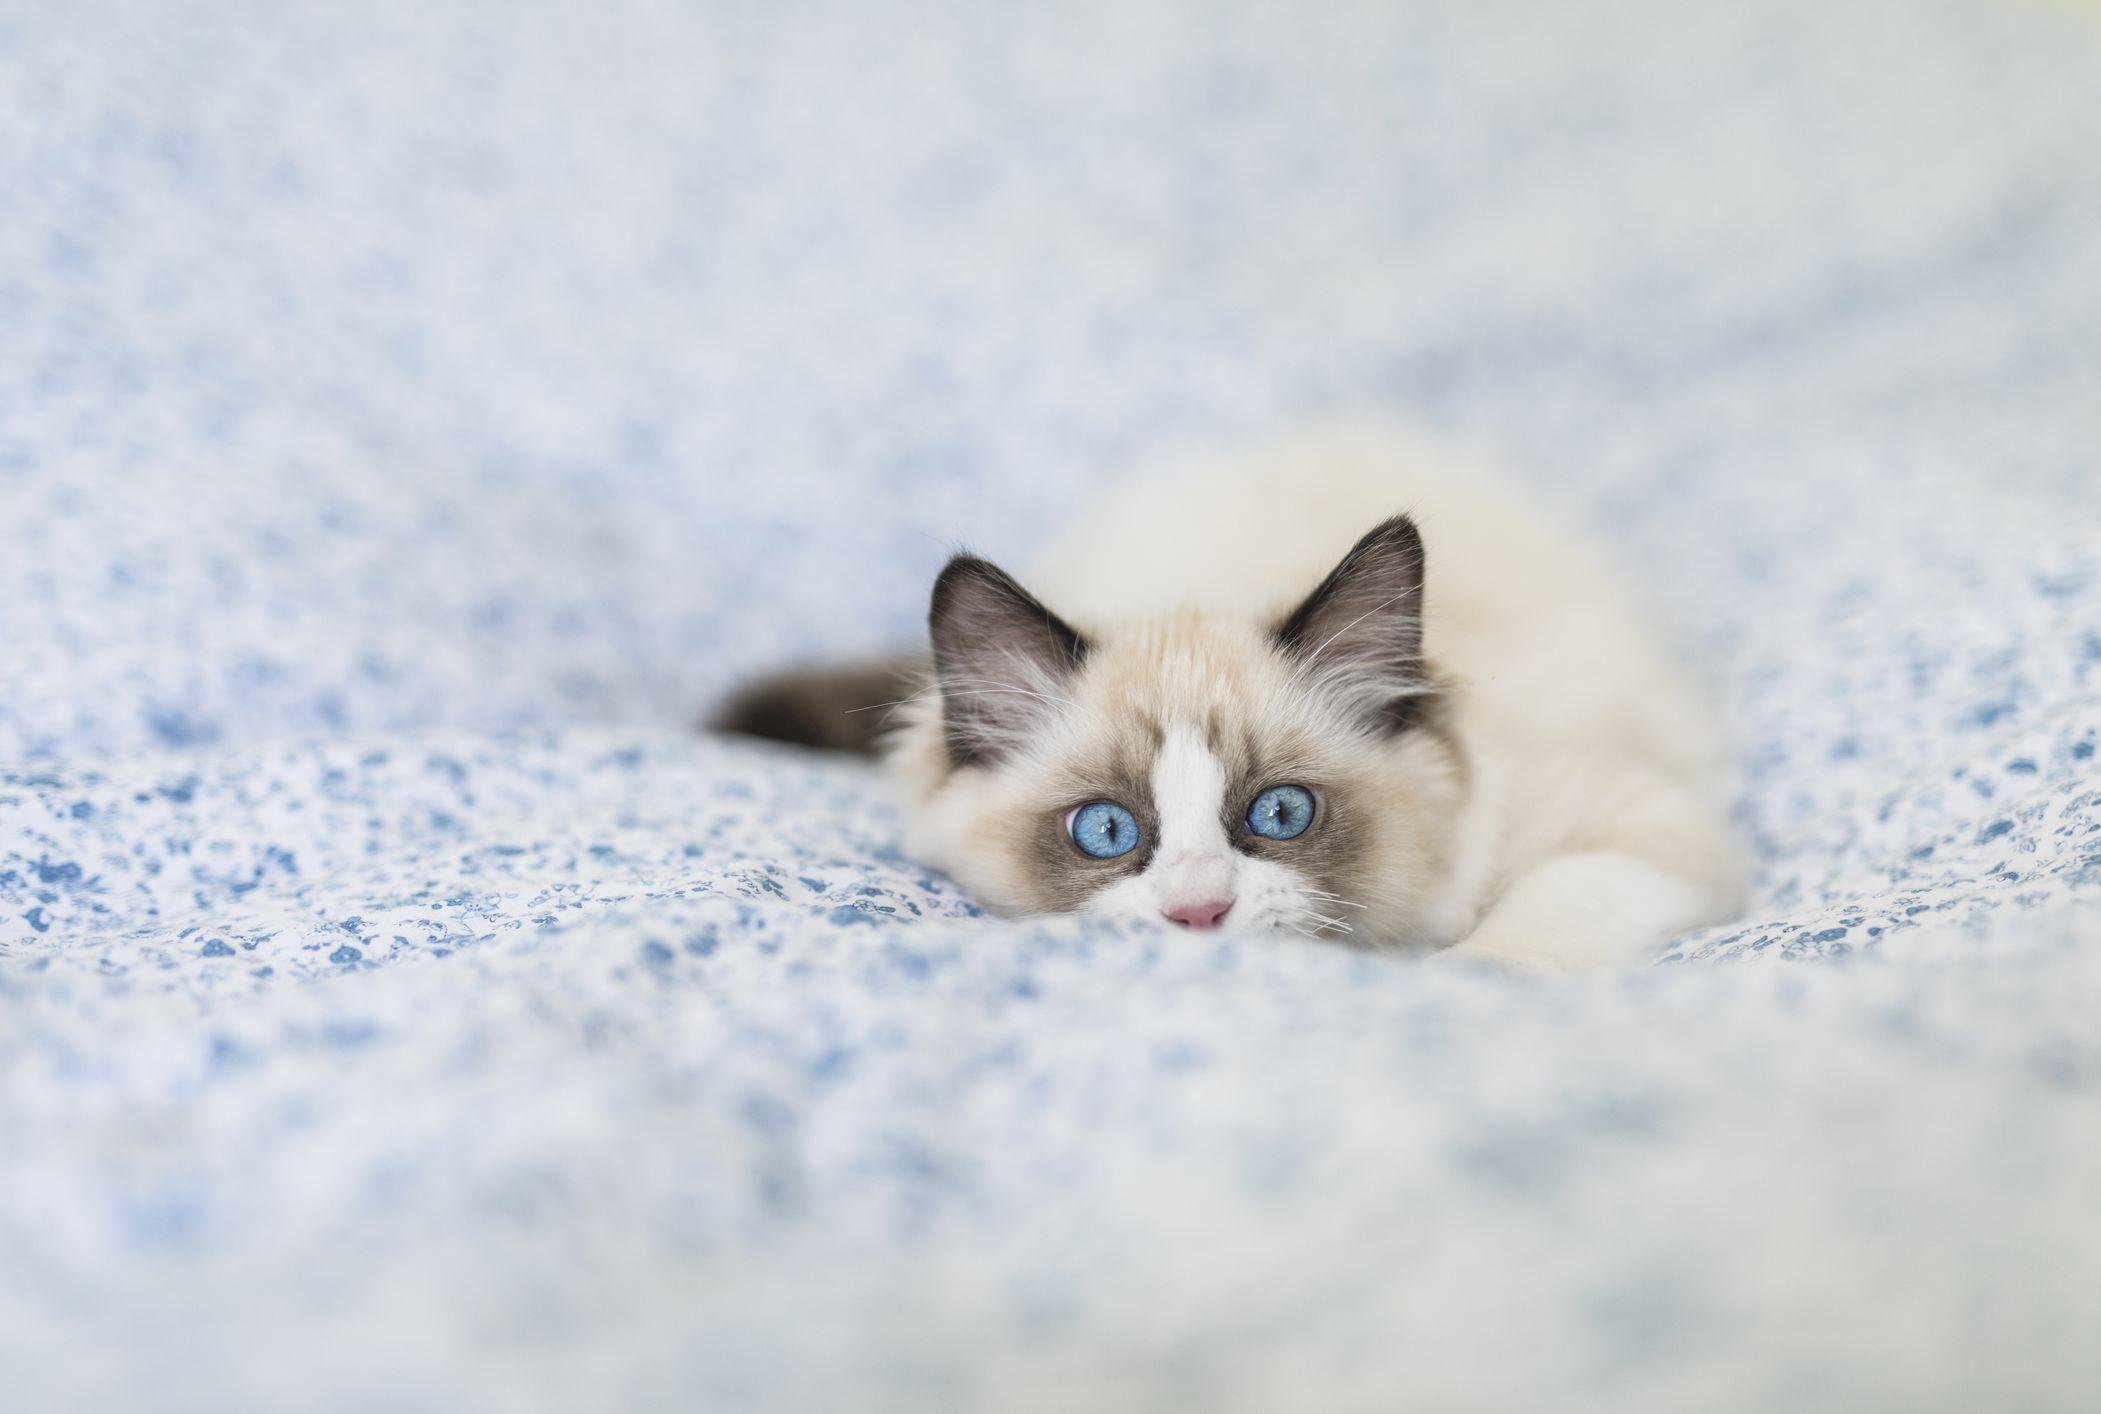ragdoll: (864, 472, 1480, 1032)
